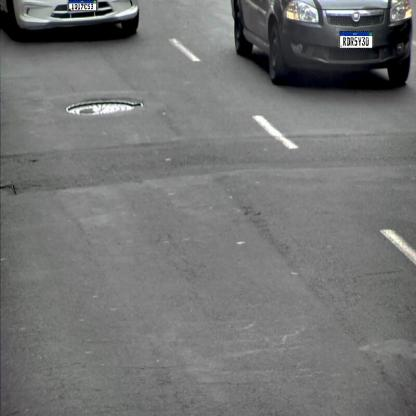PlacaM: (339, 31, 373, 49), (68, 0, 96, 11)
